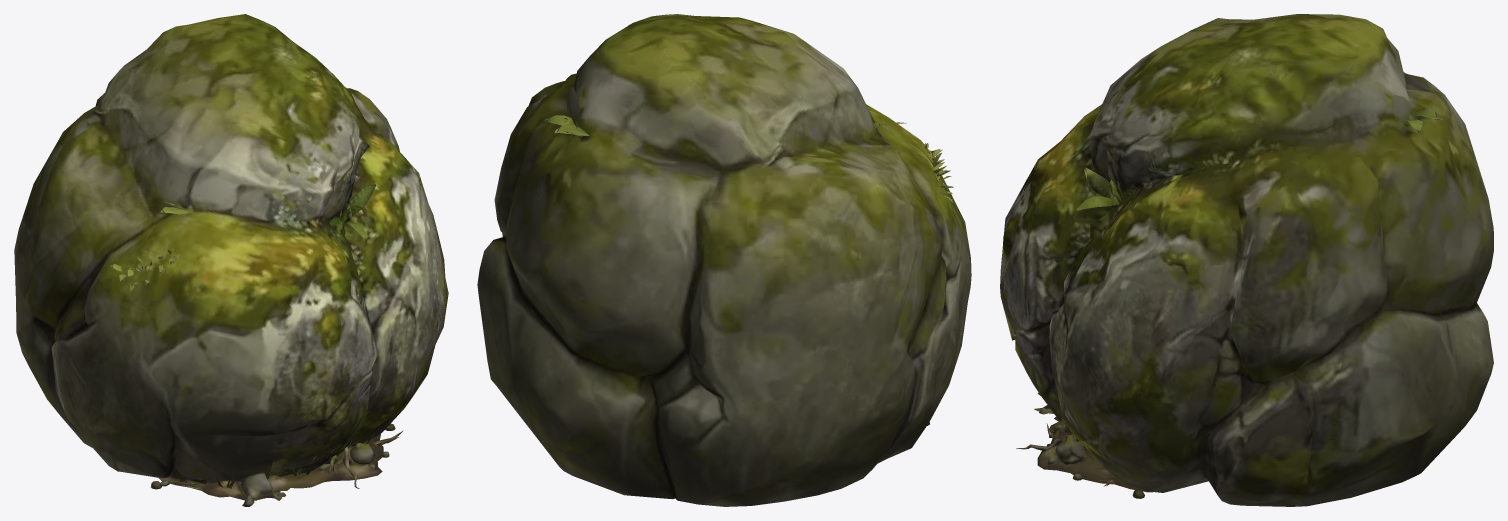
File: boulder.glb
3 renders of one model, left to right at view 1: azimuth 30°, elevation 25°; view 2: azimuth 150°, elevation 25°; view 3: azimuth 270°, elevation 25°, orthographic. The views are drawn at different scales.
Bounding box in the file's own units: 0.9233 × 0.8936 × 0.9517.
1 material, 1 textured.
